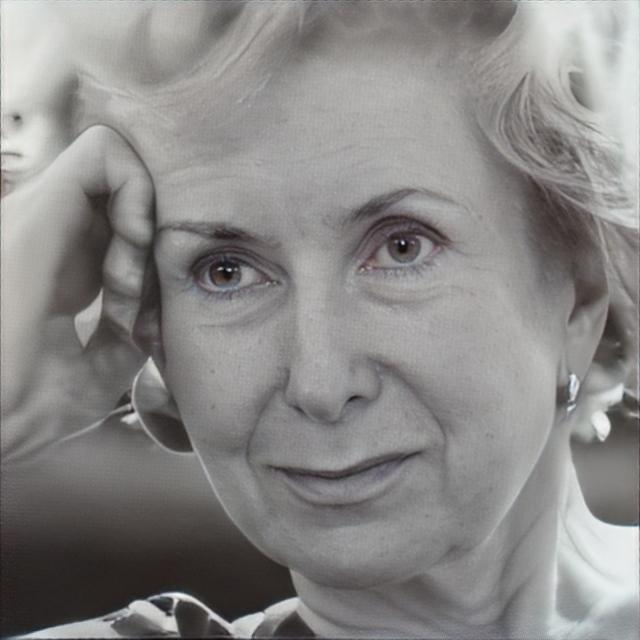content: (148, 36, 558, 587)
